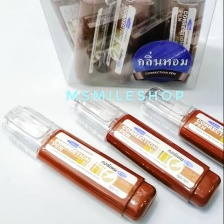correction_fluid: (62, 87, 223, 211), (0, 99, 160, 223), (137, 82, 224, 183), (152, 0, 208, 86), (103, 0, 157, 85), (70, 0, 117, 83)
